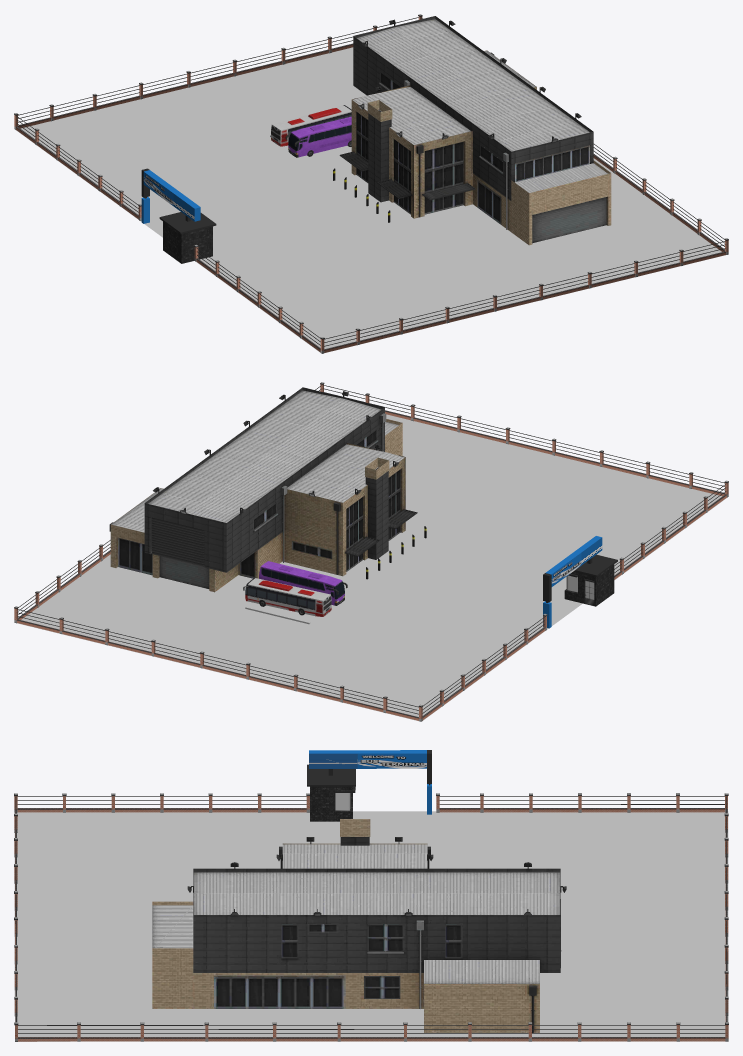
Rendered from bus terminal.fbx.
3 renders of one model, top to bottom at view 1: azimuth 30°, elevation 25°; view 2: azimuth 150°, elevation 25°; view 3: azimuth 270°, elevation 25°, orthographic. The views are drawn at different scales.
Visible parts, largest first — view 1: bus terminal_006, bus terminal_002, bus terminal_006.001, bus terminal_005, bus terminal_003, bus terminal_007; view 2: bus terminal_006, bus terminal_002, bus terminal_006.001, bus terminal_005, bus terminal_007, bus terminal_003; view 3: bus terminal_006, bus terminal_002, bus terminal_006.001, bus terminal_005.
Boxes of the visible parts, x1=… form: bus terminal_006: x1=16, y1=47, x2=724, y2=353; bus terminal_002: x1=333, y1=16, x2=611, y2=245; bus terminal_006.001: x1=14, y1=14, x2=728, y2=353; bus terminal_005: x1=141, y1=168, x2=216, y2=263; bus terminal_003: x1=285, y1=116, x2=351, y2=157; bus terminal_007: x1=271, y1=105, x2=351, y2=146; bus terminal_006: x1=17, y1=414, x2=727, y2=721; bus terminal_002: x1=109, y1=387, x2=426, y2=592; bus terminal_006.001: x1=14, y1=382, x2=728, y2=721; bus terminal_005: x1=543, y1=536, x2=617, y2=628; bus terminal_007: x1=243, y1=578, x2=331, y2=616; bus terminal_003: x1=259, y1=561, x2=347, y2=605; bus terminal_006: x1=14, y1=811, x2=728, y2=1041; bus terminal_002: x1=152, y1=819, x2=566, y2=1032; bus terminal_006.001: x1=14, y1=793, x2=728, y2=1041; bus terminal_005: x1=307, y1=750, x2=431, y2=821.
Size of the model in its own units: 7397 by 1514 by 9341.
